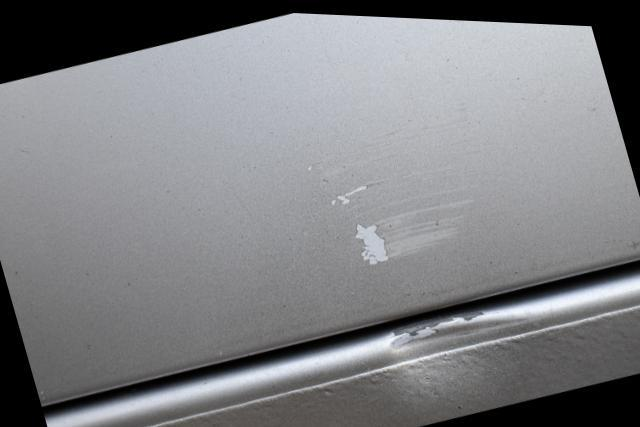dent: (388, 312, 517, 392)
scratch: (310, 107, 480, 263)
